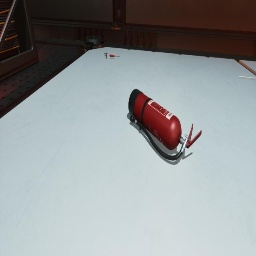FireExtinguisher ]: (128, 89, 202, 161)
